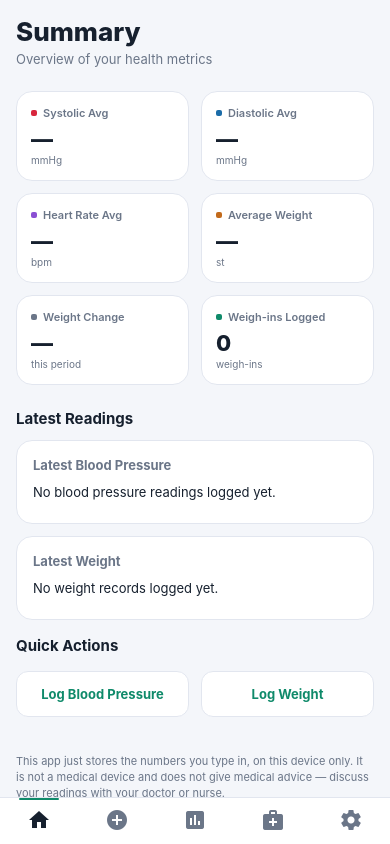
it: where reminders are unsupported › explains that Expo Go on Android cannot schedule reminders
The width and height of the screenshot is (390, 844).
Expected: the text "Summary" is shown, [16,16,141,47]
Click the tab named "Settings" at (351, 820), box [339,808,363,832]
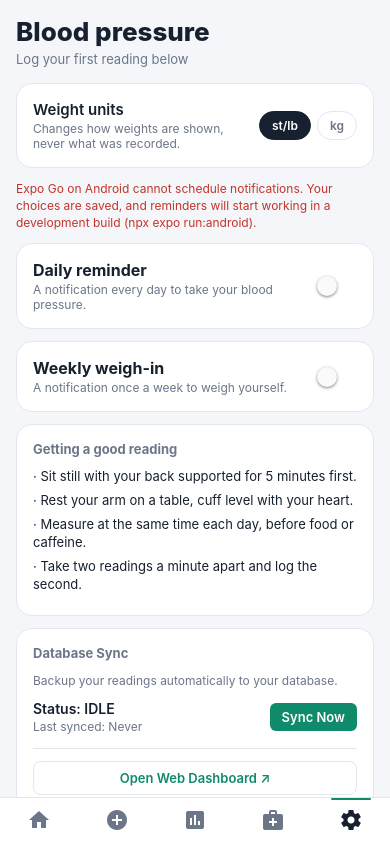
Now the text "Expo Go on Android cannot schedule notifications" is shown, box [16,181,336,230]
